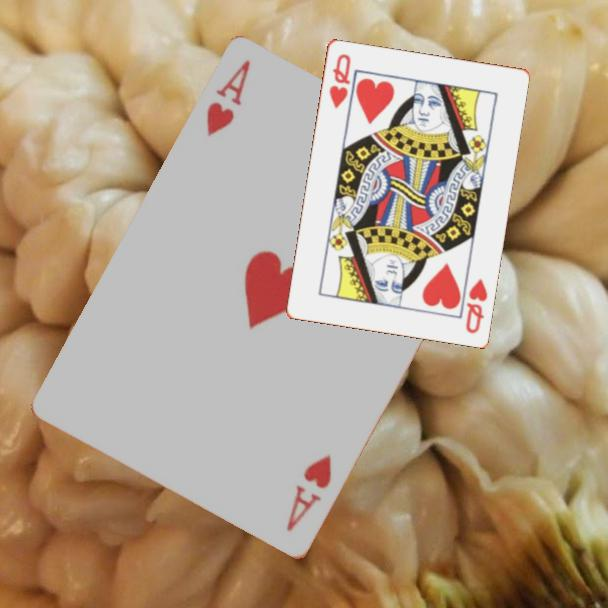h01: (283, 451, 335, 536), (203, 57, 254, 141)
h12: (462, 274, 490, 336), (325, 50, 353, 111)
